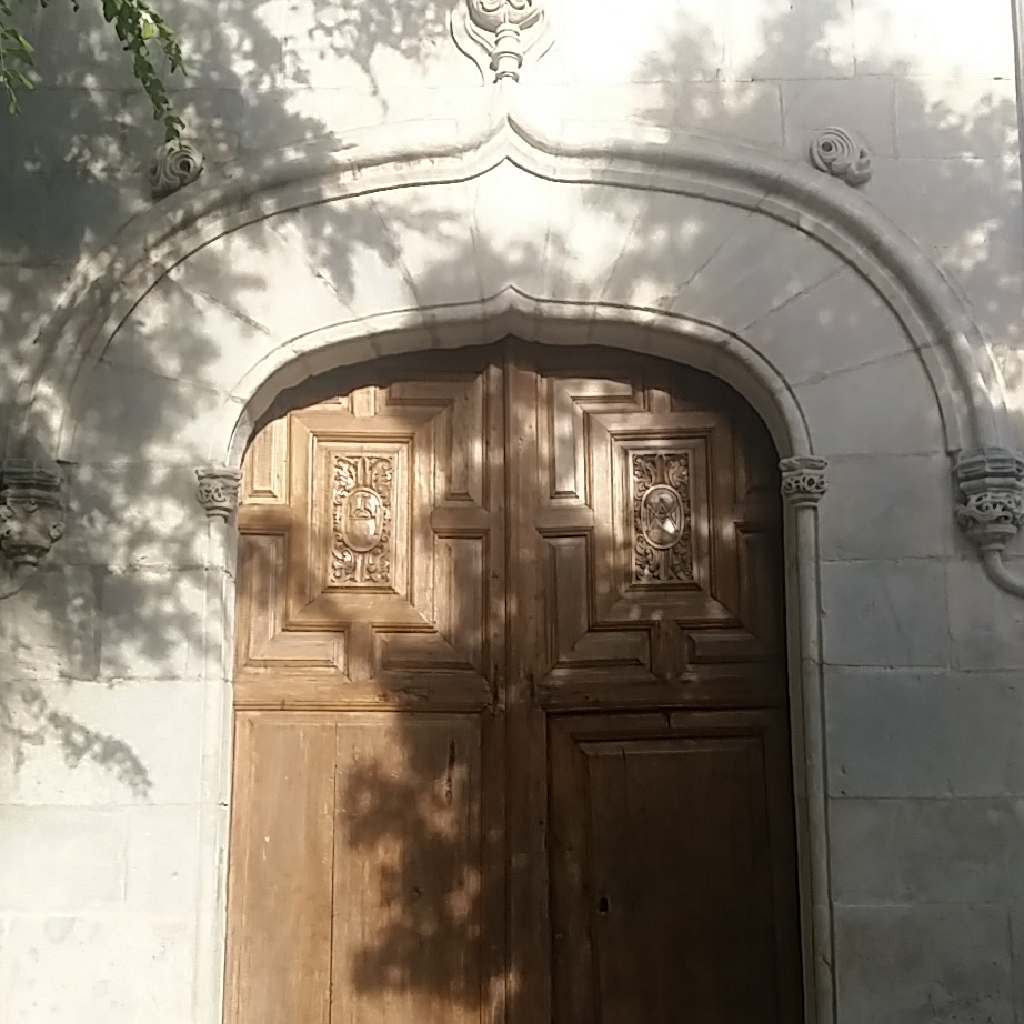arco-conopial: (108, 98, 897, 248), (219, 270, 809, 427)
